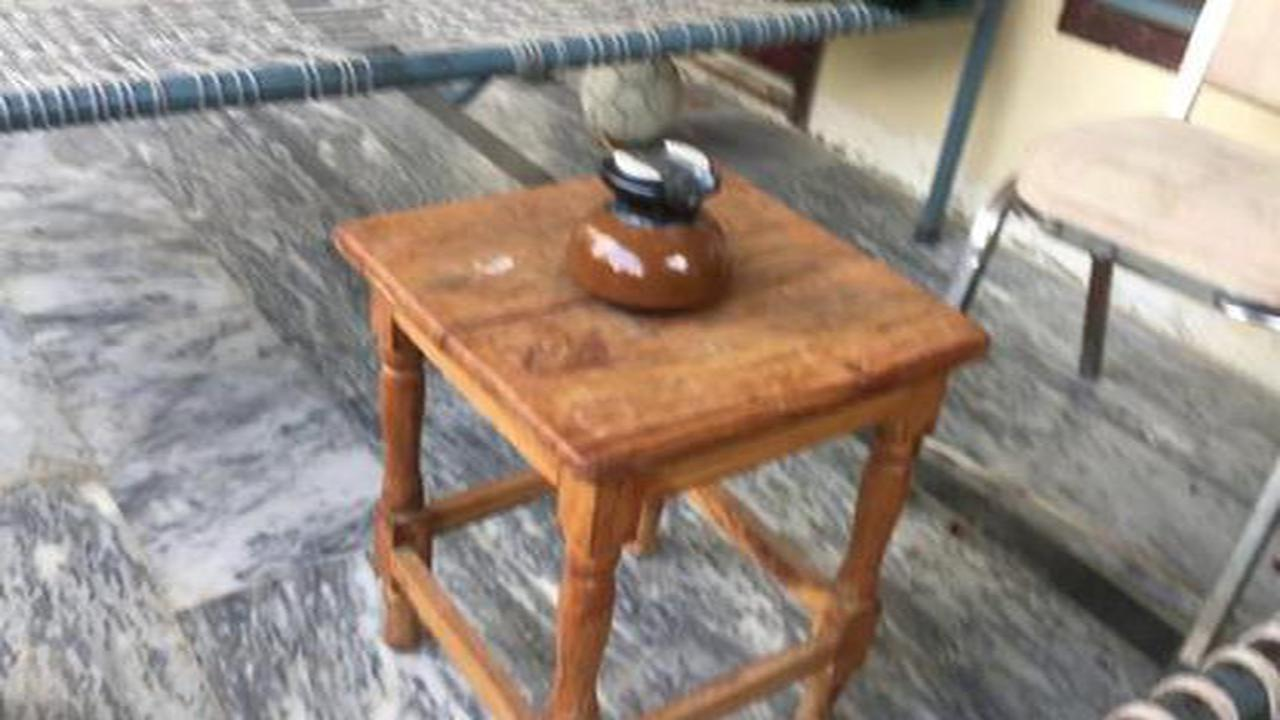insulator_pin: (551, 123, 761, 322)
